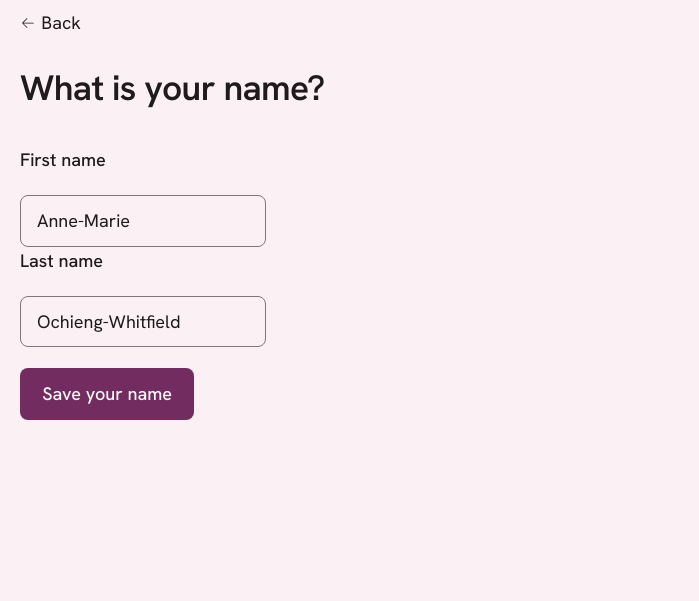
Test: the name question › shows the server's own words when the save is refused, and stays
The width and height of the screenshot is (699, 601).
Click the button "Save your name" at (107, 394), box [20,368,194,420]
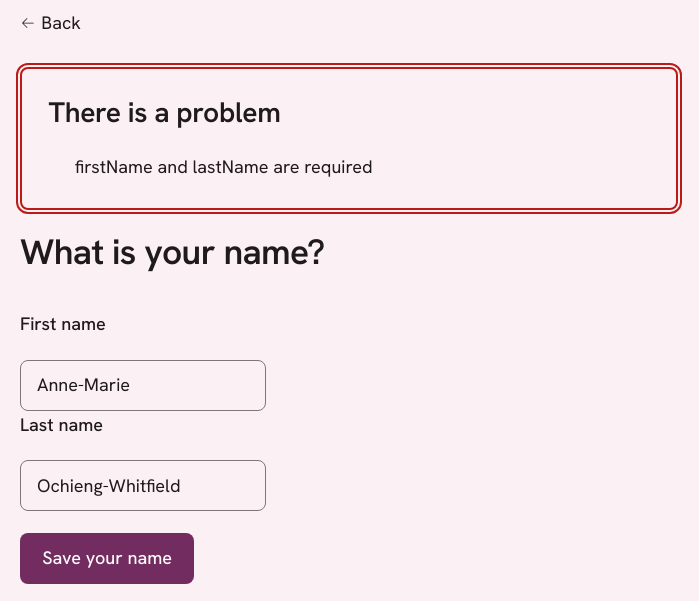
Result: the message shows "firstName and lastName are required" at [75,155,373,178]
